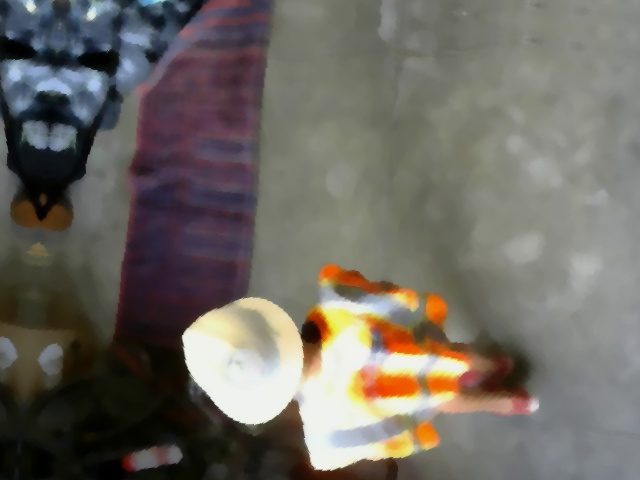three: (219, 340, 271, 390)
